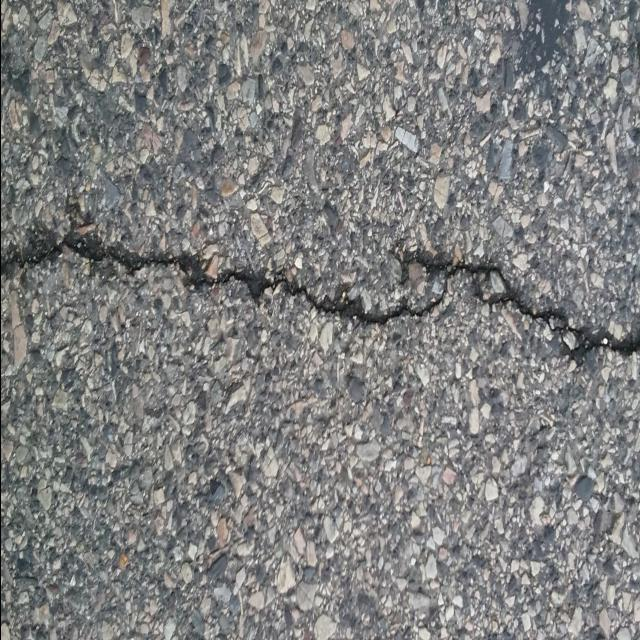Crack: (0, 227, 640, 366)
